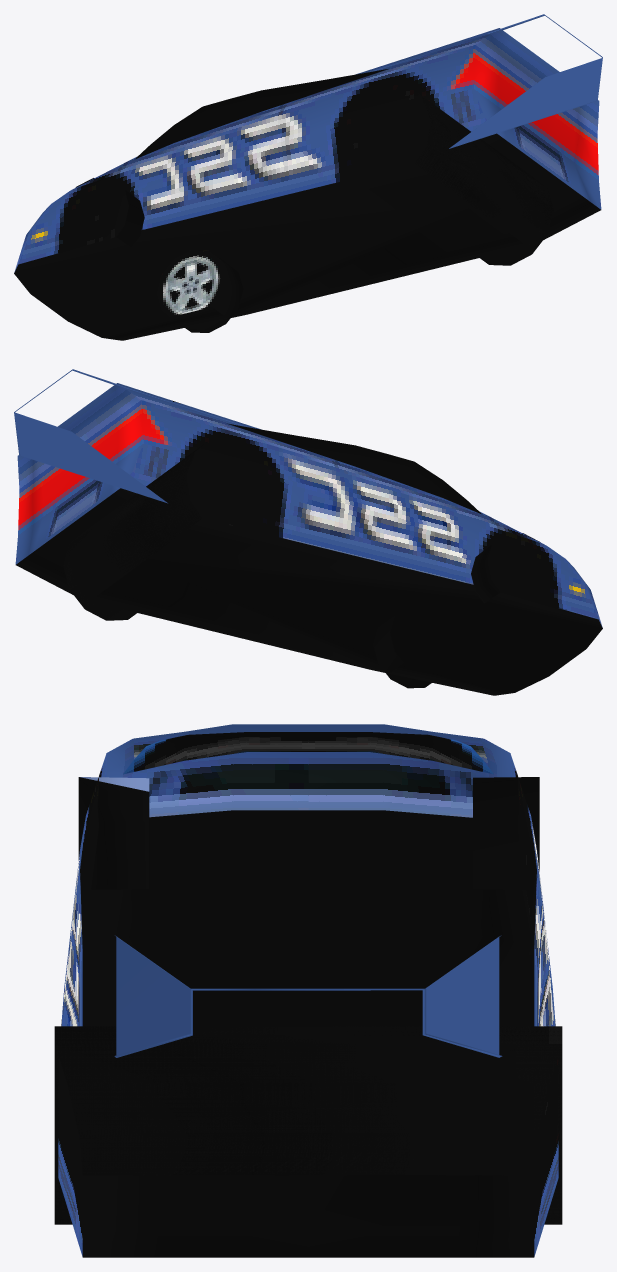
Rendered from ps2_save-icons_supercarstreetchallenge.glb.
3 views of the same model, one above another, from view 1: azimuth 30°, elevation 25°; view 2: azimuth 150°, elevation 25°; view 3: azimuth 270°, elevation 25° (orthographic). The views are drawn at different scales.
Parts seen in each view (by area): view 1: ssc.ico; view 2: ssc.ico; view 3: ssc.ico.
Part boxes in pixels (bbox=[...]): ssc.ico: bbox=[14, 14, 602, 340]; ssc.ico: bbox=[14, 369, 602, 695]; ssc.ico: bbox=[54, 724, 562, 1257].
Size of the model in its own units: 4.62 by 1.29 by 1.94.
1 material, 1 textured.
